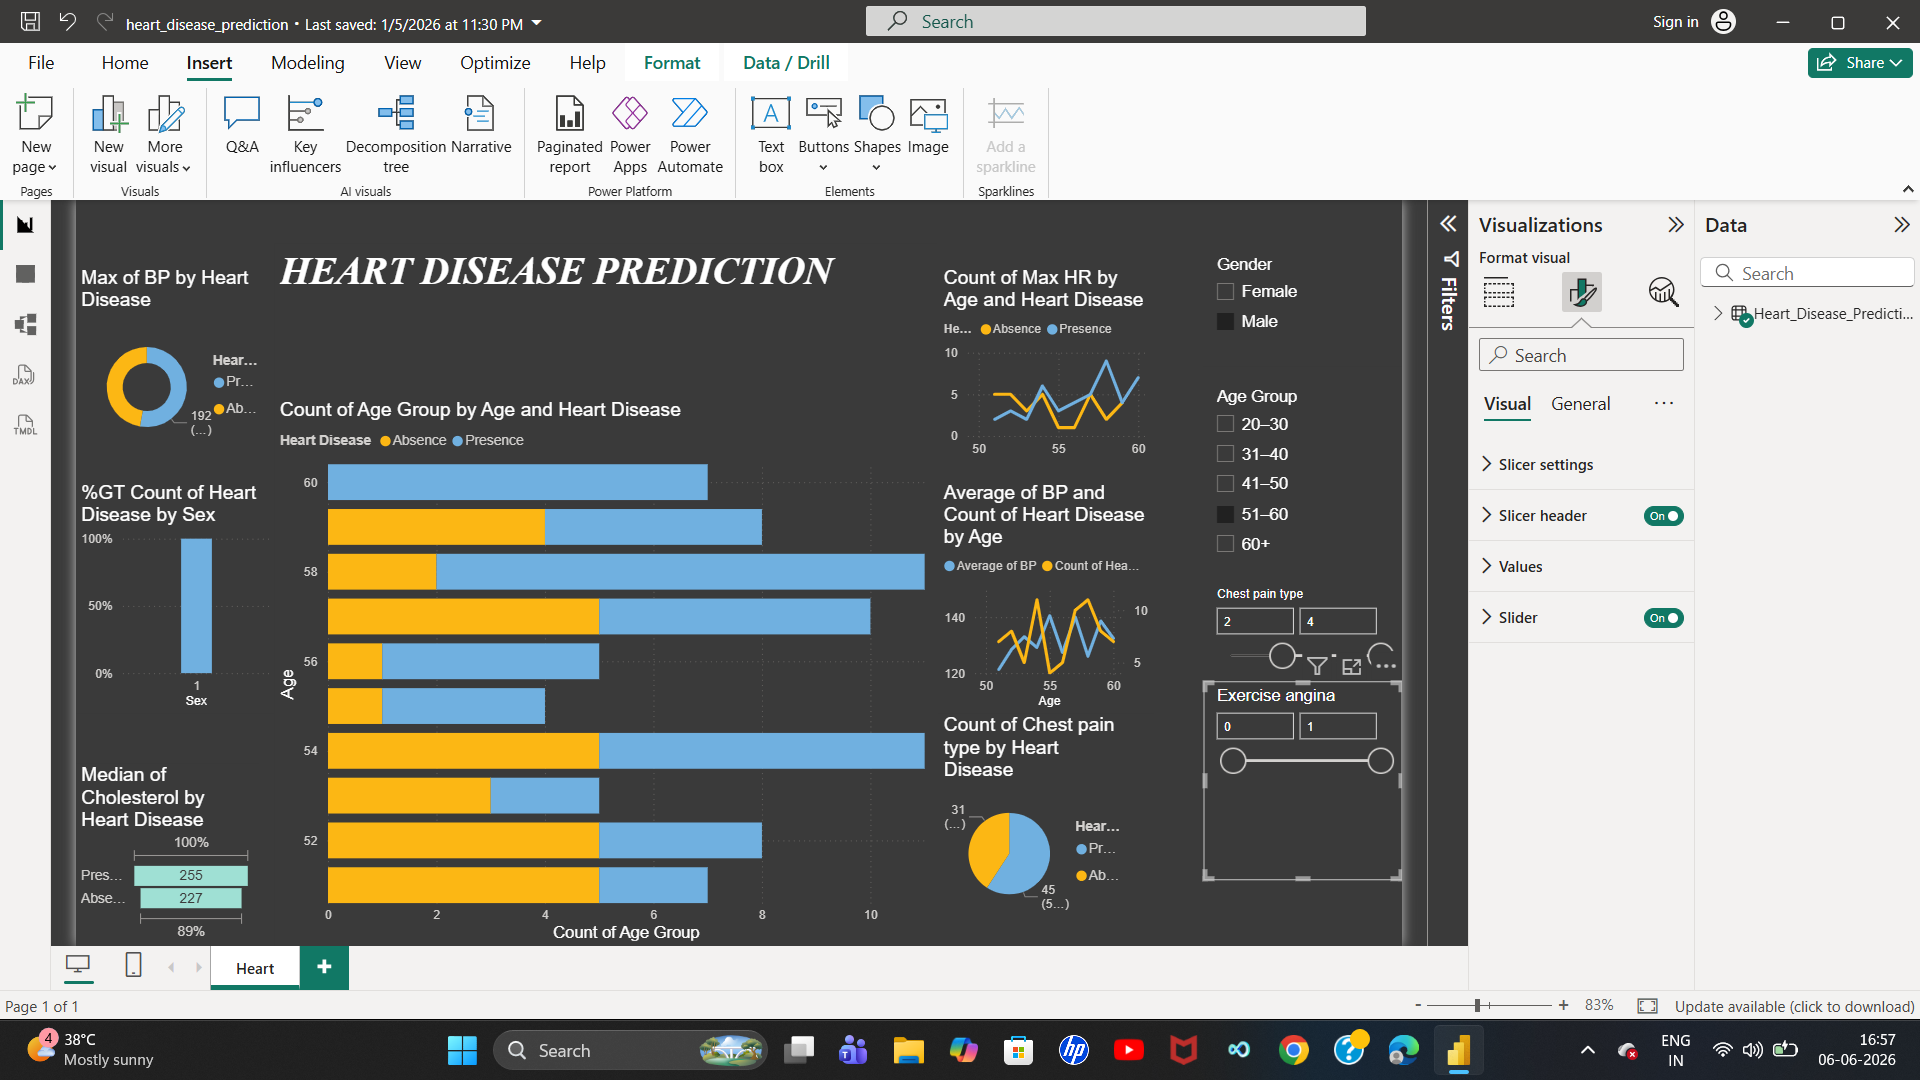

What the dashboard file says about the page in this screenshot:
{"tool":"powerbi","page":{"name":"Heart disease prediction analytics","canvas":[1280,720],"ordinal":0},"visuals":[{"type":"donutChart","fields":{"Category":["Heart_Disease_Prediction.Heart Disease"],"Y":["Max(Heart_Disease_Prediction.BP)"]},"box":[0,64,192,192],"z":0},{"type":"columnChart","fields":{"Category":["Heart_Disease_Prediction.Sex"],"Y":["CountNonNull(Heart_Disease_Prediction.Heart Disease)"]},"box":[0,272,176,224],"z":1000},{"type":"barChart","fields":{"Y":["CountNonNull(Heart_Disease_Prediction.Age Group)"],"Category":["Heart_Disease_Prediction.Age"],"Series":["Heart_Disease_Prediction.Heart Disease"]},"box":[206.9,152.8,611.1,559.7],"z":2000},{"type":"funnel","fields":{"Category":["Heart_Disease_Prediction.Heart Disease"],"Y":["Median(Heart_Disease_Prediction.Cholesterol)"]},"box":[0,544,176,176],"z":3000},{"type":"pieChart","fields":{"Category":["Heart_Disease_Prediction.Heart Disease"],"Y":["CountNonNull(Heart_Disease_Prediction.Chest pain type)"]},"box":[831.9,511.1,255.6,208.3],"z":4000},{"type":"lineChart","fields":{"Category":["Heart_Disease_Prediction.Age"],"Y":["Avg(Heart_Disease_Prediction.BP)"],"Y2":["CountNonNull(Heart_Disease_Prediction.Heart Disease)"]},"box":[832,272,256,224],"z":5000},{"type":"lineChart","fields":{"Category":["Heart_Disease_Prediction.Age"],"Y":["CountNonNull(Heart_Disease_Prediction.Max HR)"],"Series":["Heart_Disease_Prediction.Heart Disease"]},"box":[832,48,256,208],"z":6000},{"type":"slicer","fields":{"Values":["Heart_Disease_Prediction.Gender"]},"box":[1131.9,95.8,148.6,112.5],"z":7000},{"type":"slicer","fields":{"Values":["Heart_Disease_Prediction.Age Group"]},"box":[1131.9,208.3,148.6,175],"z":8000},{"type":"slicer","fields":{"Values":["Heart_Disease_Prediction.Chest pain type"]},"box":[1144.4,383.3,136.1,129.2],"z":9000},{"type":"slicer","fields":{"Values":["Heart_Disease_Prediction.Exercise angina"]},"box":[1144.4,527.8,136.1,191.7],"z":10000},{"type":"textbox","box":[191.7,0,640.3,122.2],"z":11000},{"type":"textbox","box":[96,96,16,16],"z":12000},{"type":"shape","box":[1119.4,0,12.5,719.4],"z":12001}]}

Visuals, with their boxes on the page's 1280x720 design canvas (x1, y1, x2, y2). These are canvas units, not pixel positions in the 1920x1080 screenshot, which may show the page scaled, cropped or inside an application window:
donutChart - Heart_Disease_Prediction.Heart Disease x Max(Heart_Disease_Prediction.BP): {"left": 0, "top": 64, "right": 192, "bottom": 256}
columnChart - Heart_Disease_Prediction.Sex x CountNonNull(Heart_Disease_Prediction.Heart Disease): {"left": 0, "top": 272, "right": 176, "bottom": 496}
barChart - CountNonNull(Heart_Disease_Prediction.Age Group) x Heart_Disease_Prediction.Age: {"left": 207, "top": 153, "right": 818, "bottom": 712}
funnel - Heart_Disease_Prediction.Heart Disease x Median(Heart_Disease_Prediction.Cholesterol): {"left": 0, "top": 544, "right": 176, "bottom": 720}
pieChart - Heart_Disease_Prediction.Heart Disease x CountNonNull(Heart_Disease_Prediction.Chest pain type): {"left": 832, "top": 511, "right": 1088, "bottom": 719}
lineChart - Heart_Disease_Prediction.Age x Avg(Heart_Disease_Prediction.BP): {"left": 832, "top": 272, "right": 1088, "bottom": 496}
lineChart - Heart_Disease_Prediction.Age x CountNonNull(Heart_Disease_Prediction.Max HR): {"left": 832, "top": 48, "right": 1088, "bottom": 256}
slicer - Heart_Disease_Prediction.Gender: {"left": 1132, "top": 96, "right": 1280, "bottom": 208}
slicer - Heart_Disease_Prediction.Age Group: {"left": 1132, "top": 208, "right": 1280, "bottom": 383}
slicer - Heart_Disease_Prediction.Chest pain type: {"left": 1144, "top": 383, "right": 1280, "bottom": 512}
slicer - Heart_Disease_Prediction.Exercise angina: {"left": 1144, "top": 528, "right": 1280, "bottom": 720}
textbox: {"left": 192, "top": 0, "right": 832, "bottom": 122}
textbox: {"left": 96, "top": 96, "right": 112, "bottom": 112}
shape: {"left": 1119, "top": 0, "right": 1132, "bottom": 719}
